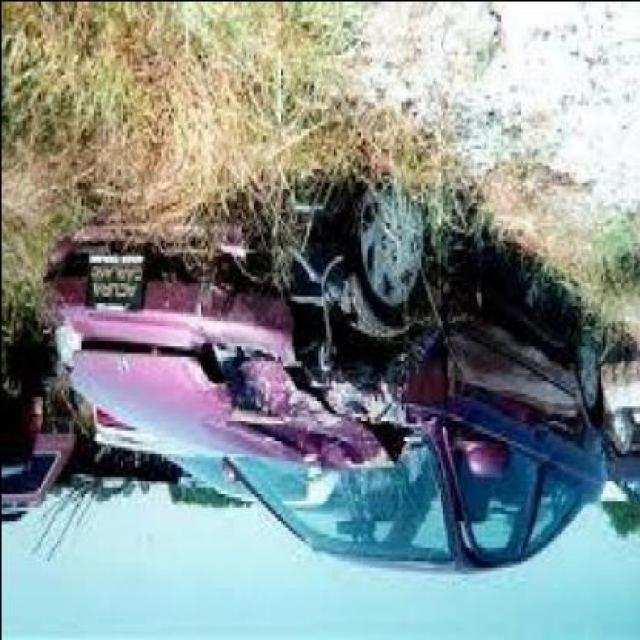damage: (174, 193, 441, 470)
